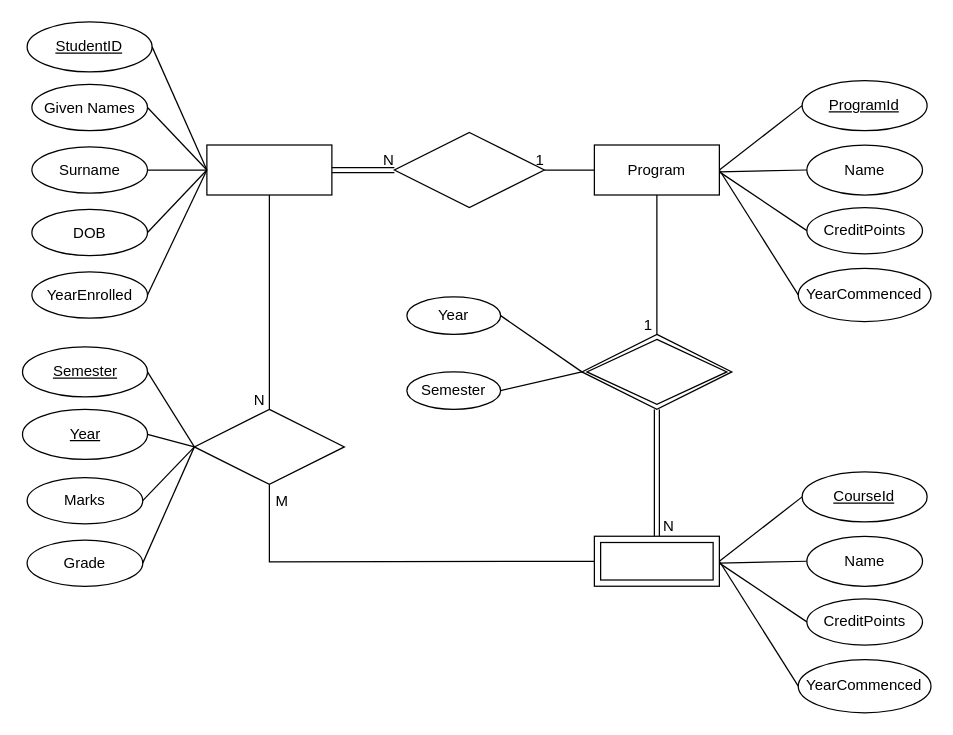
Some shapes in this 953 by 735 pixel diagram are drawn without their labels. The box of each missing label's shape, as (x1, y1, x2, y2) in pixels:
Attempts: (193, 408, 344, 484)
Contains: (581, 333, 732, 409)
Cousre: (593, 535, 719, 586)
EnrollsIn: (393, 131, 544, 208)
Student: (206, 144, 332, 195)
